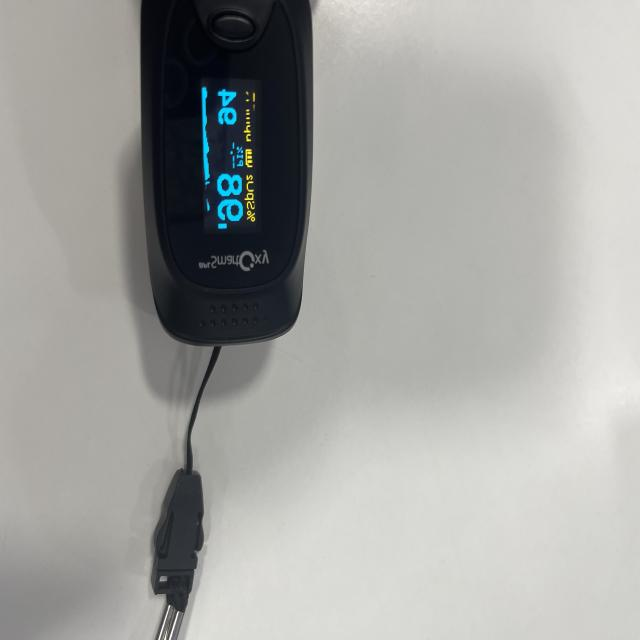spo2: (140, 0, 315, 349)
